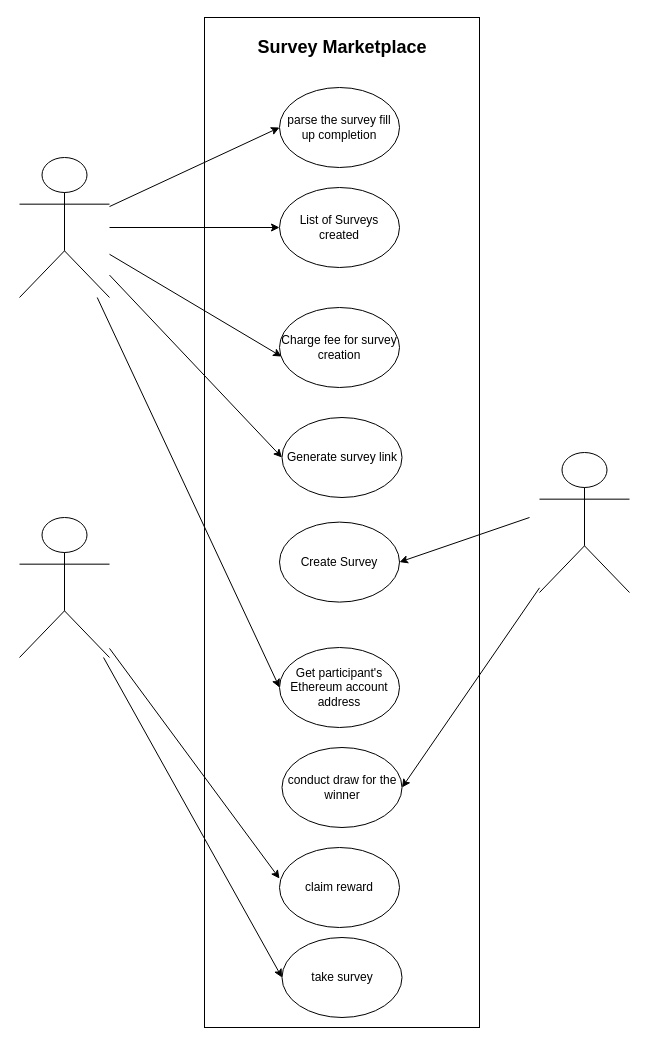
Image size: 647x1045. Some labels were removed from this diagram. Here are the shapes that lost their labels. From the top down, the box of each, then its label:
(18, 156, 110, 298): DApp
(538, 452, 630, 592): Survey Owner
(18, 516, 110, 658): Survey Particpant
